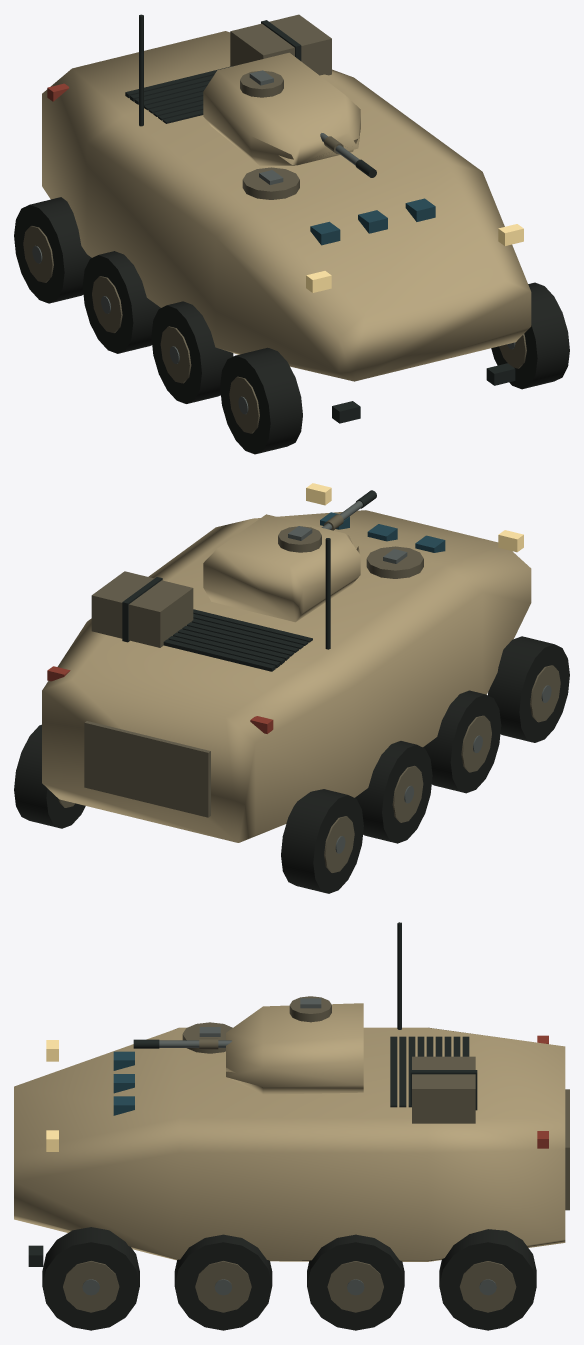
The model's file is apc.glb.
The picture shows the model from 3 angles, top to bottom: view 1: azimuth 30°, elevation 25°; view 2: azimuth 150°, elevation 25°; view 3: azimuth 270°, elevation 25°; orthographic projection. The views are drawn at different scales.
Parts seen in each view (by area): view 1: armor (×2), rubber, trim (×2), dark, stowage, glass, lamp, steel; view 2: armor (×2), rubber, trim (×2), dark, stowage, glass, lamp, steel, red; view 3: armor (×2), rubber, trim (×2), stowage, dark, steel, glass, lamp.
Boxes of the visible parts, bbox=[...] form: armor (×2): bbox=[42, 31, 531, 381]; rubber: bbox=[14, 197, 569, 454]; trim (×2): bbox=[23, 70, 526, 433]; dark: bbox=[125, 14, 515, 423]; stowage: bbox=[230, 14, 331, 75]; glass: bbox=[310, 198, 435, 245]; lamp: bbox=[306, 224, 523, 292]; steel: bbox=[32, 170, 515, 414]; armor (×2): bbox=[42, 510, 531, 842]; rubber: bbox=[14, 636, 569, 893]; trim (×2): bbox=[58, 526, 560, 872]; dark: bbox=[122, 538, 330, 671]; stowage: bbox=[91, 571, 193, 647]; glass: bbox=[320, 512, 445, 552]; lamp: bbox=[306, 483, 523, 552]; steel: bbox=[335, 549, 551, 853]; red: bbox=[47, 666, 273, 733]; armor (×2): bbox=[14, 1003, 565, 1261]; rubber: bbox=[42, 1227, 536, 1330]; trim (×2): bbox=[63, 996, 569, 1312]; stowage: bbox=[412, 1056, 475, 1123]; dark: bbox=[28, 922, 477, 1266]; steel: bbox=[82, 1027, 496, 1295]; glass: bbox=[113, 1051, 134, 1115]; lamp: bbox=[46, 1040, 58, 1151].
Bounding box in the file's own units: 3.19 × 3.05 × 5.24.
